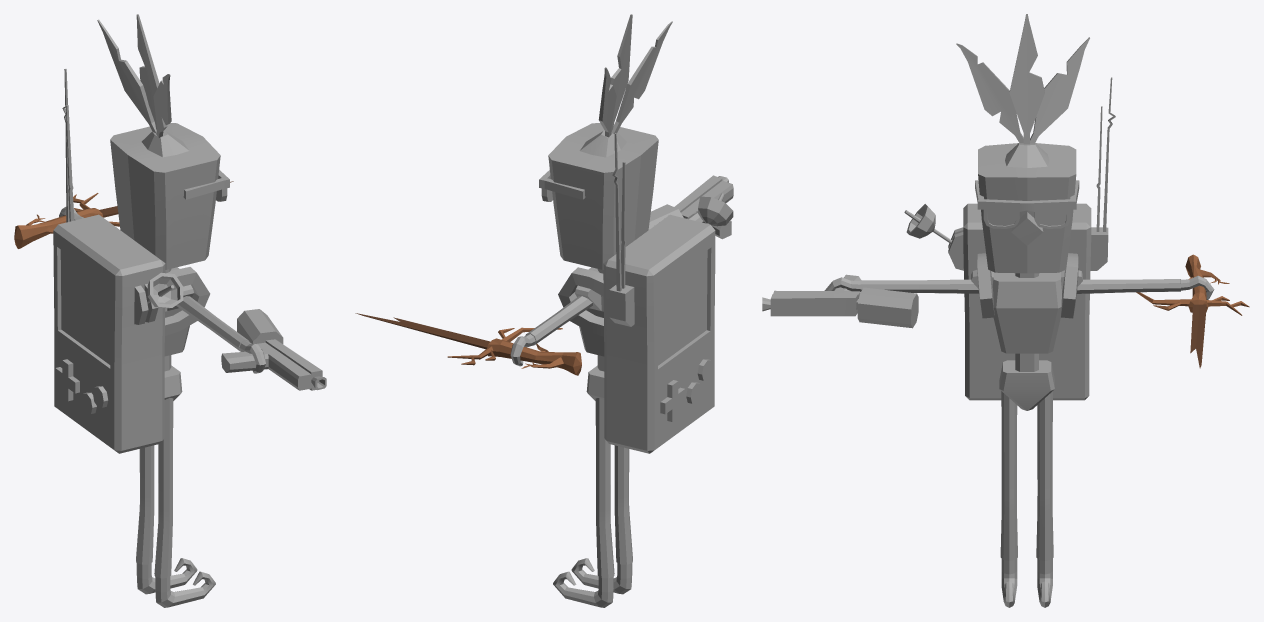
File: Character_NOANIMATION_Finished.fbx
3 views of the same model, side by side, from view 1: azimuth 30°, elevation 25°; view 2: azimuth 150°, elevation 25°; view 3: azimuth 270°, elevation 25° (orthographic). The views are drawn at different scales.
Visible parts, largest first — view 1: Backpack, Head, R_Leg, Gun, Leafs, L_Leg, R_Arm, sword, Chest, Sunglasses, Hip; view 2: Backpack, Head, L_Leg, Leafs, sword, R_Leg, Gun, L_Arm, Chest, Sunglasses, Hip; view 3: Backpack, Head, Leafs, Chest, Gun, R_Leg, L_Leg, Sunglasses, sword, Hip, L_Arm, R_Arm.
Part boxes in pixels (x1,y1,x2,y2): Backpack: (53,69,210,453); Head: (110,122,220,269); R_Leg: (154,398,215,607); Gun: (221,309,326,390); Leafs: (97,14,171,137); L_Leg: (136,445,197,594); R_Arm: (176,296,265,373); sword: (14,181,233,248); Chest: (164,267,193,356); Sunglasses: (183,169,229,201); Hip: (164,365,182,400); Backpack: (558,133,733,453); Head: (548,123,658,269); L_Leg: (553,398,614,607); Leafs: (598,14,672,137); sword: (355,313,581,375); R_Leg: (571,445,632,594); Gun: (648,175,733,239); L_Arm: (510,296,592,366); Chest: (575,267,604,356); Sunglasses: (539,170,585,201); Hip: (586,365,604,400); Backpack: (904,77,1115,400); Head: (978,143,1076,273); Leafs: (956,14,1089,144); Chest: (971,270,1082,353); Gun: (762,274,918,328); R_Leg: (1000,391,1017,607); L_Leg: (1036,391,1053,607); Sunglasses: (975,180,1079,228); sword: (1136,254,1249,368); Hip: (999,360,1054,410); L_Arm: (1077,275,1214,299); R_Arm: (824,277,978,293).
Bounding box in the file's own units: 2.56 × 5.91 × 4.59.
